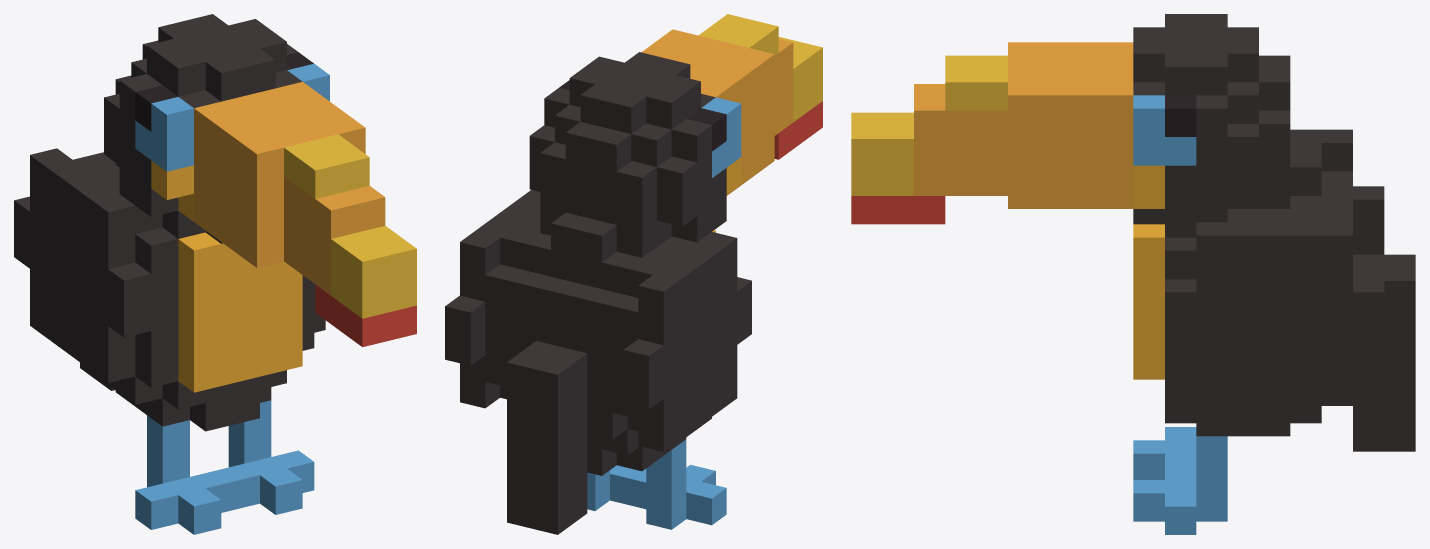
File: toucan.glb
3 views of the same model, side by side, from view 1: azimuth 30°, elevation 25°; view 2: azimuth 150°, elevation 25°; view 3: azimuth 270°, elevation 25° (orthographic). The views are drawn at different scales.
Parts seen in each view (by area): view 1: toucan; view 2: toucan; view 3: toucan.
Boxes of the visible parts, x1,y1,x2,y2 form: toucan: [14, 14, 416, 534]; toucan: [445, 14, 822, 534]; toucan: [851, 14, 1415, 534].
Bounding box in the file's own units: 0.8 × 1.6 × 1.8.
Materials: 1 (1 with a texture image).
